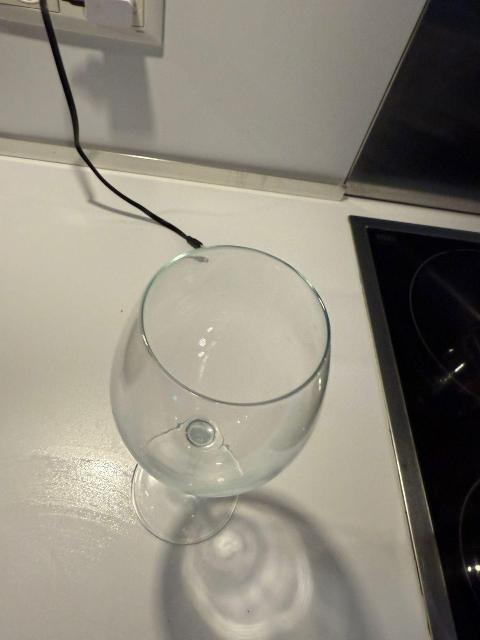Cam: (109, 244, 334, 550)
